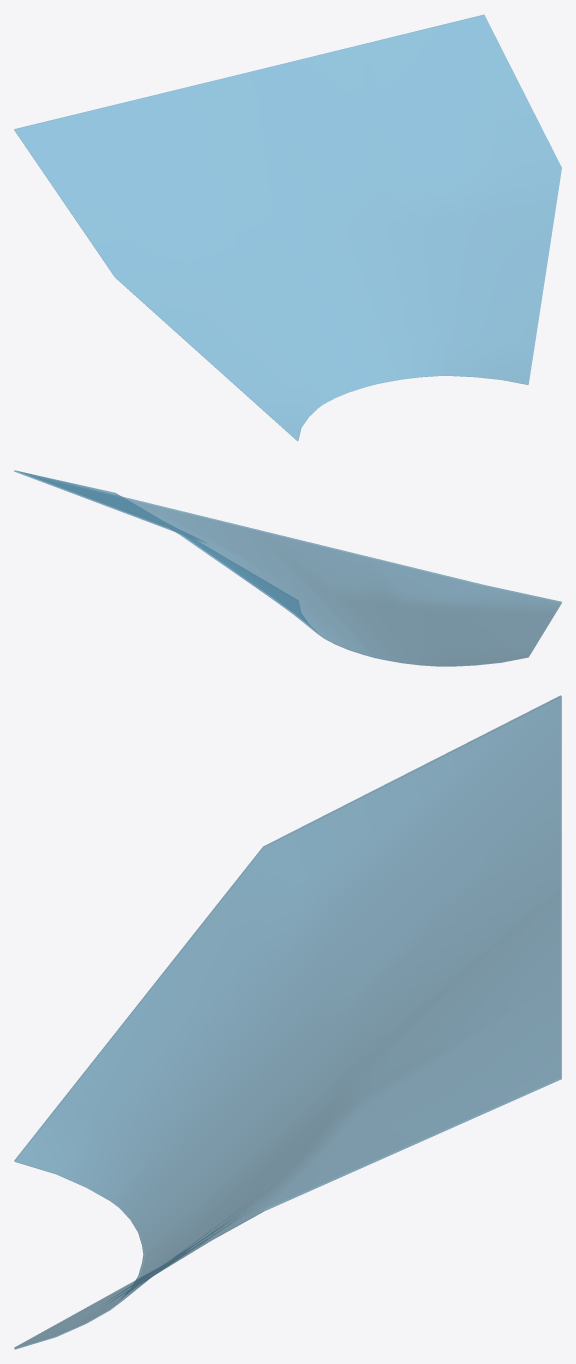
Rendered from buildingv3_glasswall.fbx.
3 views of the same model, one above another, from view 1: azimuth 30°, elevation 25°; view 2: azimuth 150°, elevation 25°; view 3: azimuth 270°, elevation 25° (orthographic). The views are drawn at different scales.
Visible parts, largest first — view 1: polySurface15; view 2: polySurface15; view 3: polySurface15.
Boxes of the visible parts, x1,y1,x2,y2 form: polySurface15: (14,14,561,440); polySurface15: (14,470,561,666); polySurface15: (14,695,561,1349).
Size of the model in its own units: 207 by 93.1 by 125.
